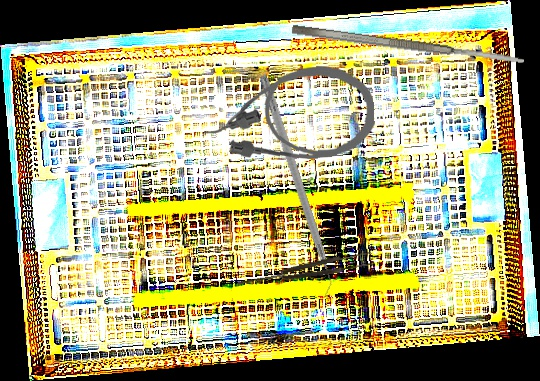Cannula: (200, 63, 377, 165)
Chopper: (248, 77, 339, 300)
Spatula Surgical: (291, 22, 525, 69)
Tissue Forceps: (236, 250, 374, 291)
